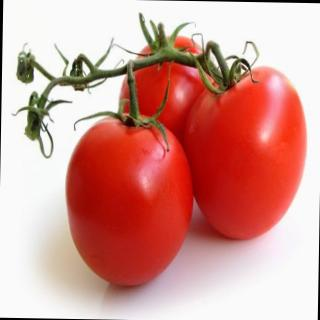Tomat: (63, 46, 197, 289), (182, 36, 310, 242), (118, 13, 218, 147)
